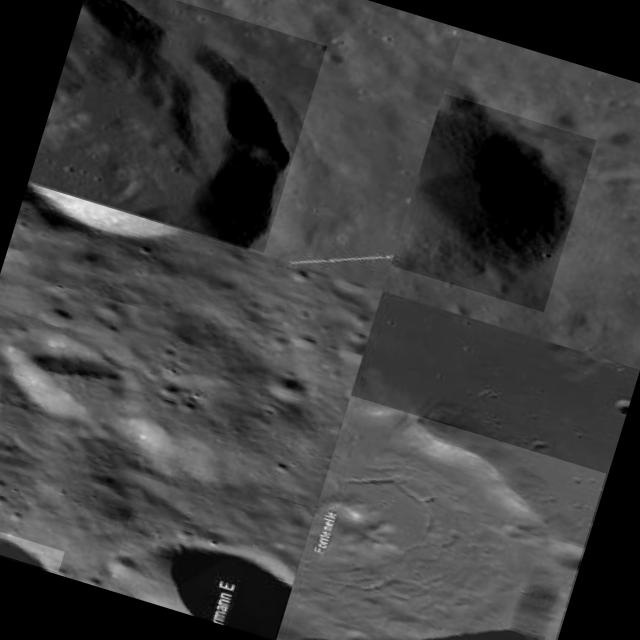crater: (275, 395, 606, 640), (27, 0, 326, 252), (390, 94, 596, 312), (108, 516, 296, 640), (0, 518, 64, 572)
